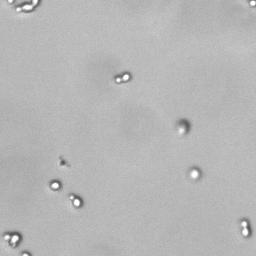budding: (3, 231, 21, 247), (240, 219, 251, 238), (114, 72, 131, 84), (69, 194, 83, 208)
individual: (49, 180, 62, 191), (190, 169, 199, 180), (247, 1, 256, 8)
